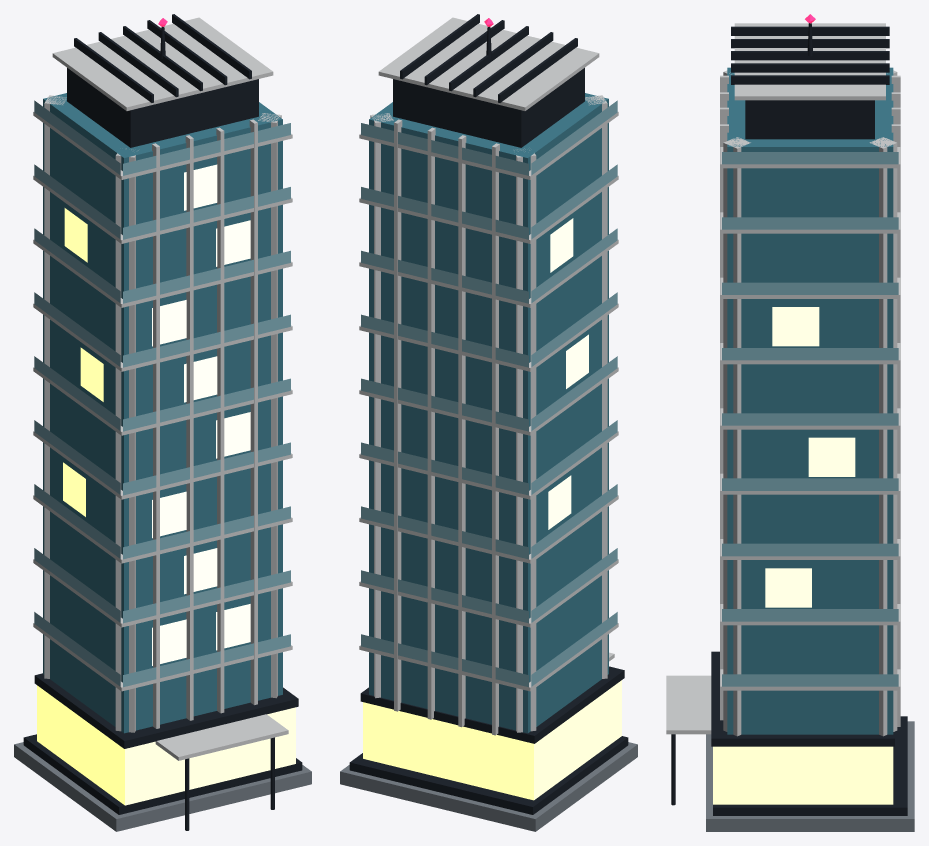
Rendered from modern_residential_tower.glb.
3 views of the same model, side by side, from view 1: azimuth 30°, elevation 25°; view 2: azimuth 150°, elevation 25°; view 3: azimuth 270°, elevation 25° (orthographic). The views are drawn at different scales.
Parts seen in each view (by area): view 1: ModernResidentialTower_mat0, ModernResidentialTower_mat1, ModernResidentialTower_mat2; view 2: ModernResidentialTower_mat0, ModernResidentialTower_mat2, ModernResidentialTower_mat1; view 3: ModernResidentialTower_mat0, ModernResidentialTower_mat2, ModernResidentialTower_mat1.
Part boxes in pixels (bbox=[...]): ModernResidentialTower_mat0: bbox=[14, 14, 311, 831]; ModernResidentialTower_mat1: bbox=[63, 164, 250, 665]; ModernResidentialTower_mat2: bbox=[37, 685, 295, 805]; ModernResidentialTower_mat0: bbox=[340, 14, 637, 831]; ModernResidentialTower_mat2: bbox=[363, 680, 621, 800]; ModernResidentialTower_mat1: bbox=[548, 218, 588, 529]; ModernResidentialTower_mat0: bbox=[666, 23, 914, 831]; ModernResidentialTower_mat2: bbox=[713, 746, 893, 804]; ModernResidentialTower_mat1: bbox=[765, 307, 855, 607].
Bounding box in the file's own units: 6.4 × 23.56 × 6.9.
